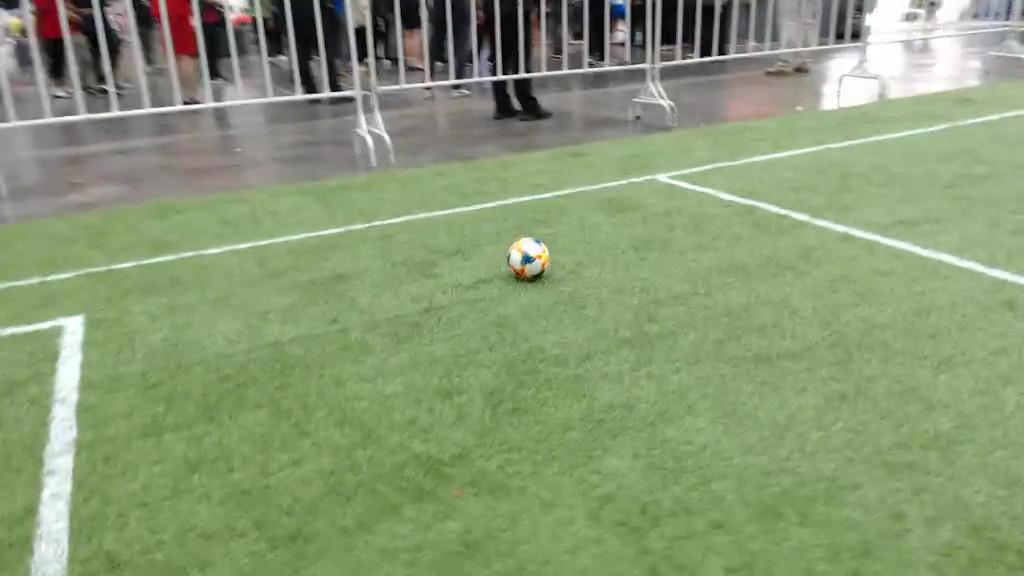ball: (507, 238, 548, 282)
